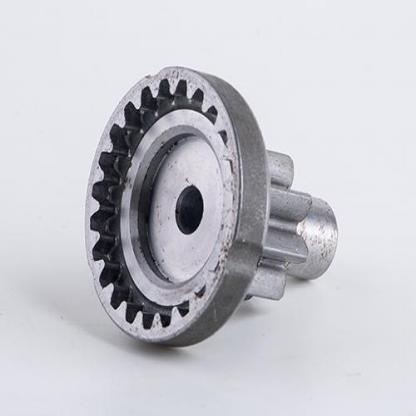FOD: (76, 60, 270, 350)
